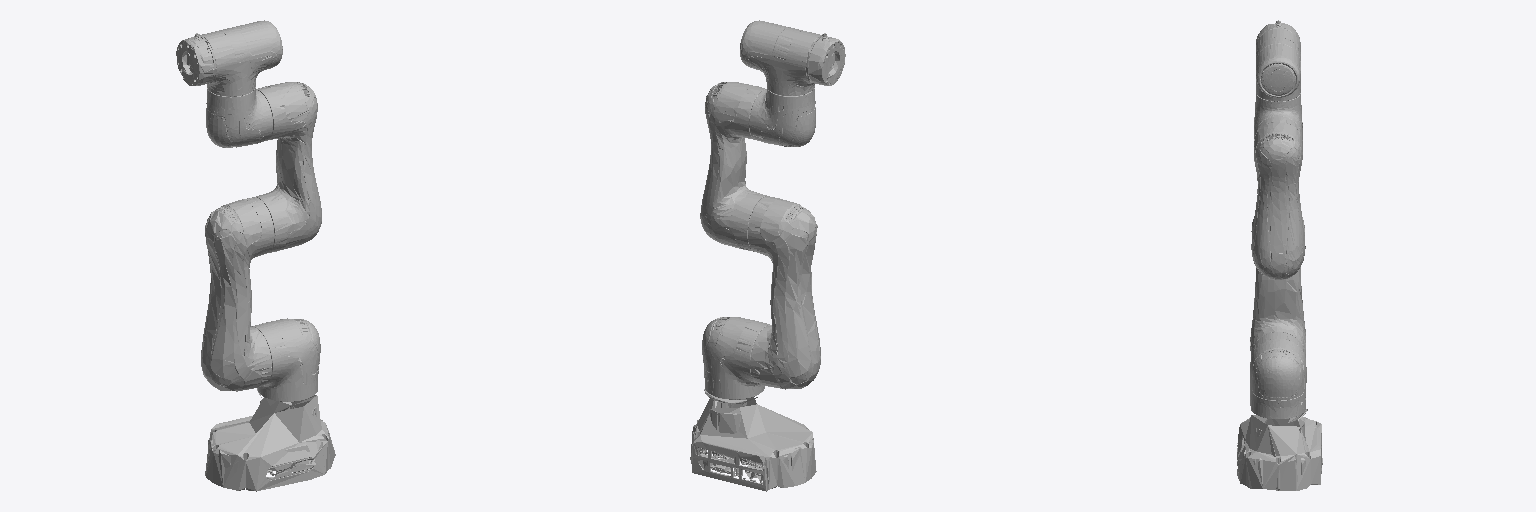
URDF robot description (magician_e6):
<?xml version="1.0"?>
<!-- GENERADO por tools/gen_modelo_e6.py. No editar a mano: regenerar. -->
<!-- Fuente: https://github.com/Dobot-Arm/DOBOT_6Axis_ROS2_V4.git @ ec201c40d5db63185a3593ec9c39f80fe25aa527 (MIT). Correcciones: ver README.md -->
<robot name="magician_e6">
  <link name="base_link">
    <inertial>
      <origin xyz="-0.0240568795993814 0.00375533156407527 0.0319345452713943" rpy="0 0 0"/>
      <mass value="2.173217"/>
      <inertia ixx="3.020601e-03" ixy="-1.872693e-05" ixz="-3.283040e-04" iyy="5.288548e-03" iyz="-1.298148e-05" izz="6.717396e-03"/>
    </inertial>
    <visual>
      <geometry><mesh filename="package://rl6gdl_e6_description/meshes/visual/base_link.stl"/></geometry>
      <material name="gris"><color rgba="0.75 0.75 0.75 1"/></material>
    </visual>
    <collision name="base_link_0"><geometry><mesh filename="package://rl6gdl_e6_description/meshes/collision/base_link_0.stl"/></geometry></collision>
    <collision name="base_link_1"><geometry><mesh filename="package://rl6gdl_e6_description/meshes/collision/base_link_1.stl"/></geometry></collision>
    <collision name="base_link_2"><geometry><mesh filename="package://rl6gdl_e6_description/meshes/collision/base_link_2.stl"/></geometry></collision>
    <collision name="base_link_3"><geometry><mesh filename="package://rl6gdl_e6_description/meshes/collision/base_link_3.stl"/></geometry></collision>
  </link>
  <link name="Link1">
    <inertial>
      <origin xyz="-0.0083034891135278 0.000169963422442479 0.0273090165667047" rpy="0 0 0"/>
      <mass value="0.689985"/>
      <inertia ixx="9.600762e-04" ixy="2.917680e-06" ixz="1.989532e-04" iyy="8.135447e-04" iyz="-2.241640e-06" izz="8.454355e-04"/>
    </inertial>
    <visual>
      <geometry><mesh filename="package://rl6gdl_e6_description/meshes/visual/Link1.stl"/></geometry>
      <material name="gris"><color rgba="0.75 0.75 0.75 1"/></material>
    </visual>
    <collision name="Link1_0"><geometry><mesh filename="package://rl6gdl_e6_description/meshes/collision/Link1_0.stl"/></geometry></collision>
  </link>
  <link name="Link2">
    <inertial>
      <origin xyz="-3.08219150776858E-06 0.0879305908719406 0.0388340121175632" rpy="0 0 0"/>
      <mass value="1.997437"/>
      <inertia ixx="1.155939e-02" ixy="-6.901748e-07" ixz="-1.755252e-07" iyy="1.406978e-03" iyz="4.514555e-05" izz="1.221095e-02"/>
    </inertial>
    <visual>
      <geometry><mesh filename="package://rl6gdl_e6_description/meshes/visual/Link2.stl"/></geometry>
      <material name="gris"><color rgba="0.75 0.75 0.75 1"/></material>
    </visual>
    <collision name="Link2_0"><geometry><mesh filename="package://rl6gdl_e6_description/meshes/collision/Link2_0.stl"/></geometry></collision>
    <collision name="Link2_1"><geometry><mesh filename="package://rl6gdl_e6_description/meshes/collision/Link2_1.stl"/></geometry></collision>
    <collision name="Link2_2"><geometry><mesh filename="package://rl6gdl_e6_description/meshes/collision/Link2_2.stl"/></geometry></collision>
    <collision name="Link2_3"><geometry><mesh filename="package://rl6gdl_e6_description/meshes/collision/Link2_3.stl"/></geometry></collision>
  </link>
  <link name="Link3">
    <inertial>
      <origin xyz="0.000287552185448503 0.071655088852445 -0.0471165778156417" rpy="0 0 0"/>
      <mass value="1.263166"/>
      <inertia ixx="6.327566e-03" ixy="2.147294e-05" ixz="-7.212666e-06" iyy="1.038998e-03" iyz="2.551788e-04" izz="6.667255e-03"/>
    </inertial>
    <visual>
      <geometry><mesh filename="package://rl6gdl_e6_description/meshes/visual/Link3.stl"/></geometry>
      <material name="gris"><color rgba="0.75 0.75 0.75 1"/></material>
    </visual>
    <collision name="Link3_0"><geometry><mesh filename="package://rl6gdl_e6_description/meshes/collision/Link3_0.stl"/></geometry></collision>
    <collision name="Link3_1"><geometry><mesh filename="package://rl6gdl_e6_description/meshes/collision/Link3_1.stl"/></geometry></collision>
    <collision name="Link3_2"><geometry><mesh filename="package://rl6gdl_e6_description/meshes/collision/Link3_2.stl"/></geometry></collision>
    <collision name="Link3_3"><geometry><mesh filename="package://rl6gdl_e6_description/meshes/collision/Link3_3.stl"/></geometry></collision>
  </link>
  <link name="Link4">
    <inertial>
      <origin xyz="4.09285774923343E-06 0.00868445353374203 0.0236778972827499" rpy="0 0 0"/>
      <mass value="0.391135"/>
      <inertia ixx="3.055578e-04" ixy="-9.187614e-09" ixz="-3.395162e-08" iyy="3.450956e-04" iyz="-7.627702e-05" izz="3.655450e-04"/>
    </inertial>
    <visual>
      <geometry><mesh filename="package://rl6gdl_e6_description/meshes/visual/Link4.stl"/></geometry>
      <material name="gris"><color rgba="0.75 0.75 0.75 1"/></material>
    </visual>
    <collision name="Link4_0"><geometry><mesh filename="package://rl6gdl_e6_description/meshes/collision/Link4_0.stl"/></geometry></collision>
  </link>
  <link name="Link5">
    <inertial>
      <origin xyz="0.0105483555263245 3.64597044475367E-06 0.0262055886148362" rpy="0 0 0"/>
      <mass value="0.532379"/>
      <inertia ixx="4.267877e-04" ixy="-5.902101e-08" ixz="6.291841e-05" iyy="4.150835e-04" iyz="2.250494e-08" izz="4.777332e-04"/>
    </inertial>
    <visual>
      <geometry><mesh filename="package://rl6gdl_e6_description/meshes/visual/Link5.stl"/></geometry>
      <material name="gris"><color rgba="0.75 0.75 0.75 1"/></material>
    </visual>
    <collision name="Link5_0"><geometry><mesh filename="package://rl6gdl_e6_description/meshes/collision/Link5_0.stl"/></geometry></collision>
  </link>
  <link name="Link6">
    <inertial>
      <origin xyz="-9.26807198336826E-06 0.00202791129000202 0.0111078385958137" rpy="0 0 0"/>
      <mass value="0.152681"/>
      <inertia ixx="5.565063e-05" ixy="2.239056e-08" ixz="1.601325e-09" iyy="5.215324e-05" iyz="-2.339140e-07" izz="9.836302e-05"/>
    </inertial>
    <visual>
      <geometry><mesh filename="package://rl6gdl_e6_description/meshes/visual/Link6.stl"/></geometry>
      <material name="gris"><color rgba="0.75 0.75 0.75 1"/></material>
    </visual>
    <collision name="Link6_0"><geometry><mesh filename="package://rl6gdl_e6_description/meshes/collision/Link6_0.stl"/></geometry></collision>
  </link>
  <joint name="joint1" type="revolute">
    <origin xyz="0 0 0.1268" rpy="0 0 0"/>
    <parent link="base_link"/>
    <child link="Link1"/>
    <axis xyz="0 0 1"/>
    <limit lower="-6.27" upper="6.27" effort="9.0" velocity="2.0944"/>
  </joint>
  <joint name="joint2" type="revolute">
    <origin xyz="-0.046 0 0.04" rpy="1.5708 0 -1.5708"/>
    <parent link="Link1"/>
    <child link="Link2"/>
    <axis xyz="0 0 1"/>
    <limit lower="-2.356" upper="2.356" effort="32.8" velocity="2.0944"/>
  </joint>
  <joint name="joint3" type="revolute">
    <origin xyz="0 0.18906 0.003" rpy="0 0 0"/>
    <parent link="Link2"/>
    <child link="Link3"/>
    <axis xyz="0 0 1"/>
    <limit lower="-2.6878" upper="2.6878" effort="14.1" velocity="2.0944"/>
  </joint>
  <joint name="joint4" type="revolute">
    <origin xyz="0 0.16 0.005" rpy="0 0 0"/>
    <parent link="Link3"/>
    <child link="Link4"/>
    <axis xyz="0 0 1"/>
    <limit lower="-2.7925" upper="2.7925" effort="4.4" velocity="2.0944"/>
  </joint>
  <joint name="joint5" type="revolute">
    <origin xyz="0 0.067 0.032" rpy="-1.5708 1.5708 0"/>
    <parent link="Link4"/>
    <child link="Link5"/>
    <axis xyz="0 0 1"/>
    <limit lower="-3.0194" upper="3.0194" effort="1.3" velocity="2.0944"/>
  </joint>
  <joint name="joint6" type="revolute">
    <origin xyz="-0.047 0 0.034" rpy="1.5708 0 -1.5708"/>
    <parent link="Link5"/>
    <child link="Link6"/>
    <axis xyz="0 0 1"/>
    <limit lower="-6.27" upper="6.27" effort="1.0" velocity="2.0944"/>
  </joint>
  <link name="tool0">
    <inertial><mass value="1e-6"/><inertia ixx="1e-9" ixy="0" ixz="0" iyy="1e-9" iyz="0" izz="1e-9"/></inertial>
  </link>
  <joint name="tool0_joint" type="fixed">
    <origin xyz="0 0 0.0190" rpy="0 0 0"/>
    <parent link="Link6"/>
    <child link="tool0"/>
  </joint>
</robot>

--- Facts derived from the render (not from the file) ---
Views: 3 orthographic renders of the robot side by side, from view 1: azimuth 30°, elevation 25°; view 2: azimuth 150°, elevation 25°; view 3: azimuth 270°, elevation 25°.
Model magician_e6 with 8 links and 7 joints (6 revolute, 1 fixed), rooted at base_link, posed every joint at zero.
Visible links, largest first — view 1: Link2, base_link, Link3, Link5, Link1, Link4, Link6; view 2: Link2, base_link, Link3, Link5, Link1, Link4, Link6; view 3: Link3, base_link, Link1, Link2, Link5, Link4.
Link boxes in pixels (x1,y1,x2,y2): Link2: (201,197,274,391); base_link: (205,388,335,491); Link3: (256,82,321,252); Link5: (200,20,282,96); Link1: (251,318,320,401); Link4: (206,87,272,147); Link6: (176,33,213,85); Link2: (748,196,820,389); base_link: (690,389,816,491); Link3: (700,82,766,251); Link5: (740,20,821,95); Link1: (702,317,769,399); Link4: (749,88,815,146); Link6: (808,33,845,85); Link3: (1251,116,1305,279); base_link: (1237,409,1322,490); Link1: (1250,332,1306,418); Link2: (1250,216,1305,351); Link5: (1256,28,1300,101); Link4: (1254,93,1302,140).
Size in the robot's own frame: 0.2127 by 0.124 by 0.6563 metres.
7 mesh visuals loaded from 7 distinct referenced files (7 binary STL).
